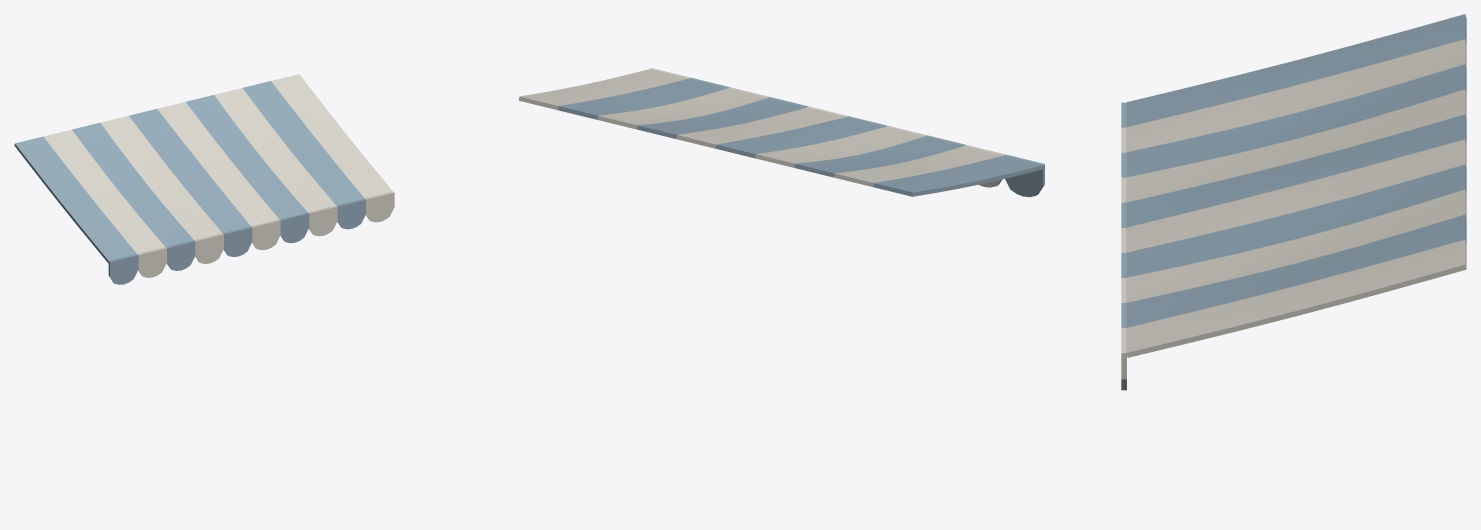
Rendered from BaitShopStand_canvas.glb.
3 renders of one model, left to right at view 1: azimuth 30°, elevation 25°; view 2: azimuth 150°, elevation 25°; view 3: azimuth 270°, elevation 25°, orthographic. The views are drawn at different scales.
Parts seen in each view (by area): view 1: BaitShopStand_canvas; view 2: BaitShopStand_canvas; view 3: BaitShopStand_canvas.
Part boxes in pixels (<box>): BaitShopStand_canvas: <box>14,74,394,515</box>; BaitShopStand_canvas: <box>519,68,1044,197</box>; BaitShopStand_canvas: <box>1121,14,1466,390</box>.
Bounding box in the file's own units: 14.32 × 11.9 × 6.11.
